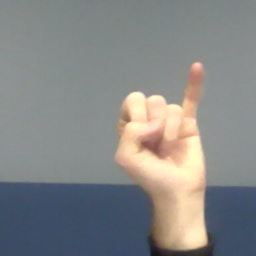I: (113, 61, 213, 192)
